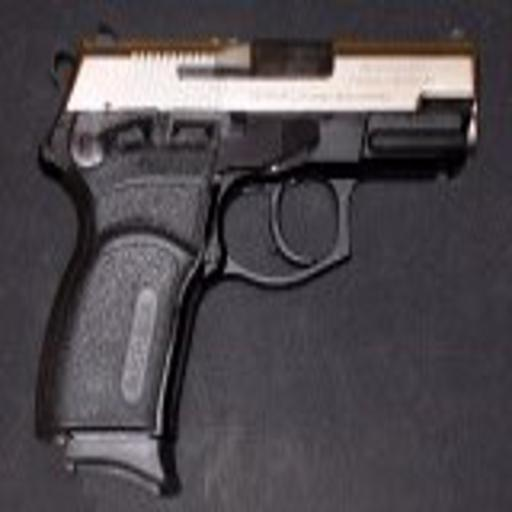Handgun: (31, 24, 479, 498)
